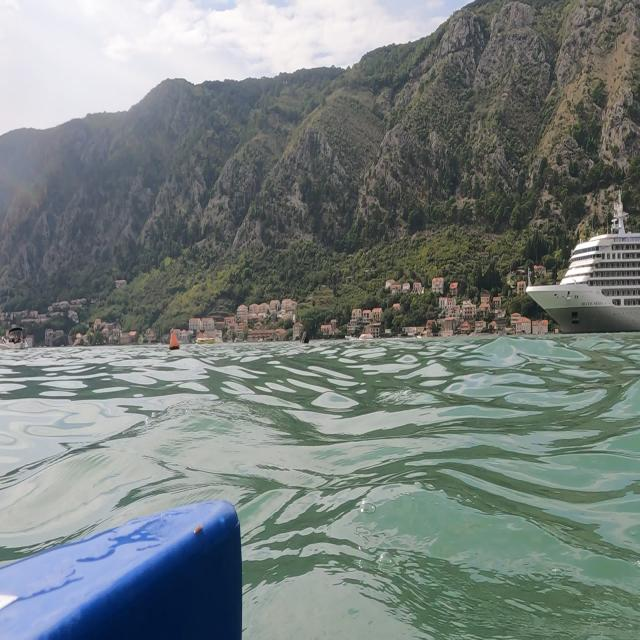boat: (524, 186, 639, 335)
buoy: (165, 326, 183, 356), (294, 326, 312, 350)
